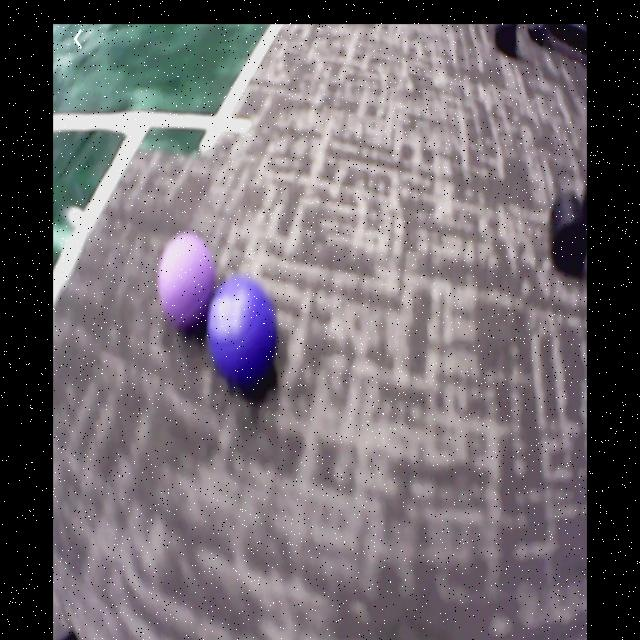ball: (210, 279, 277, 391), (160, 235, 214, 336)
